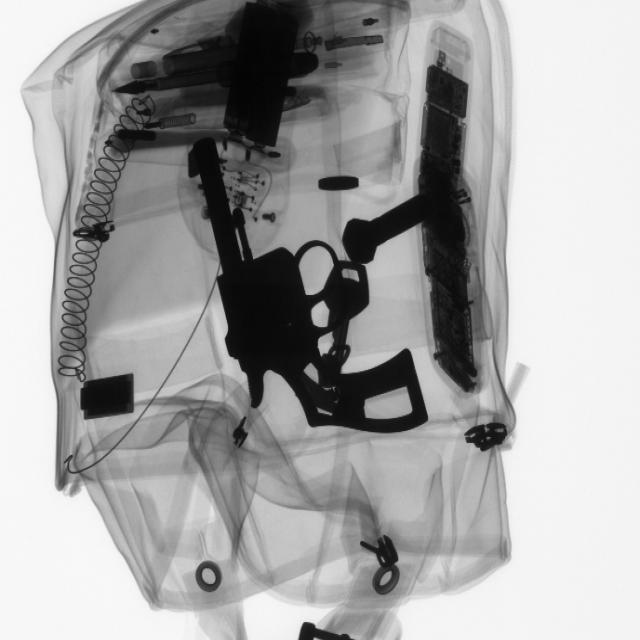GUN: (188, 142, 423, 445)
